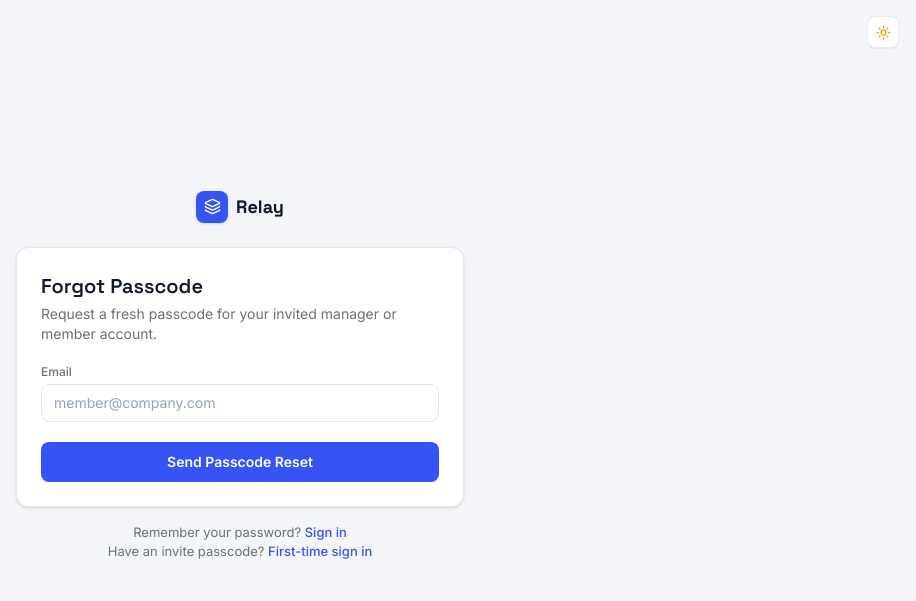
Test: ForgotPasscode Component › displays error banner when request fails
Type "bob@acme.test" into the field with placeholder "member@company.com" at (240, 402), box [41,384,439,422]
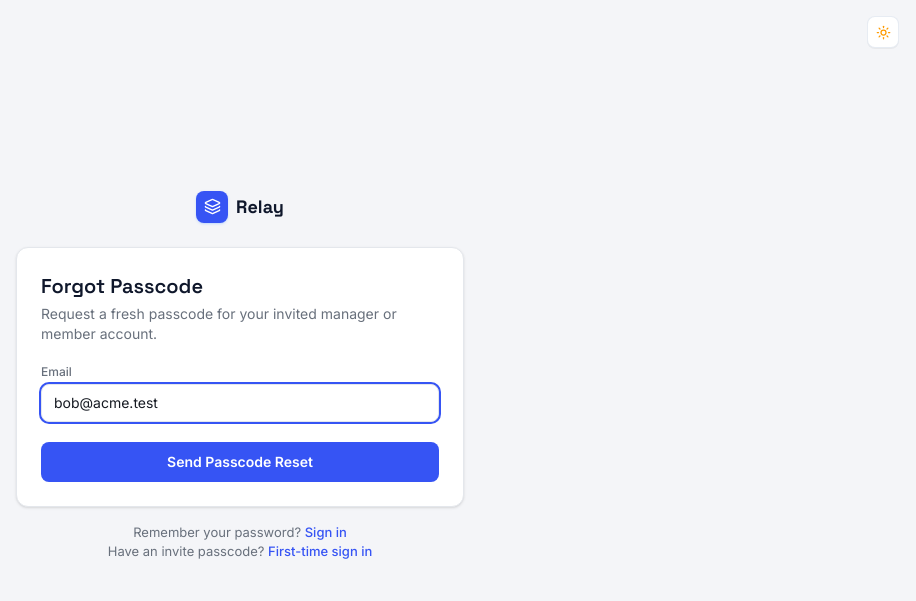
Click the button "Send Passcode Reset" at (240, 462), box [41,442,439,482]
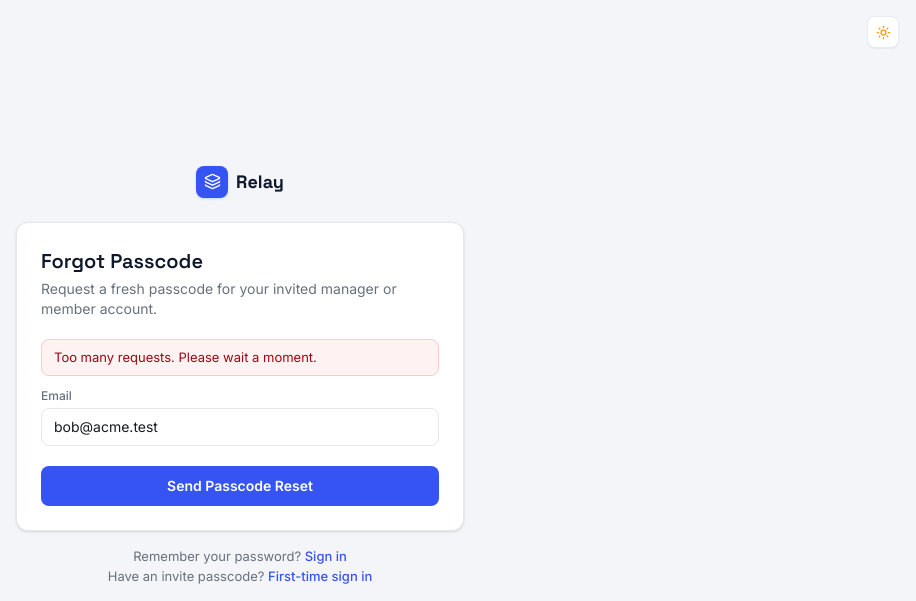
expect the text "Too many requests. Please wait a moment." is shown: met, box [41,339,439,376]
